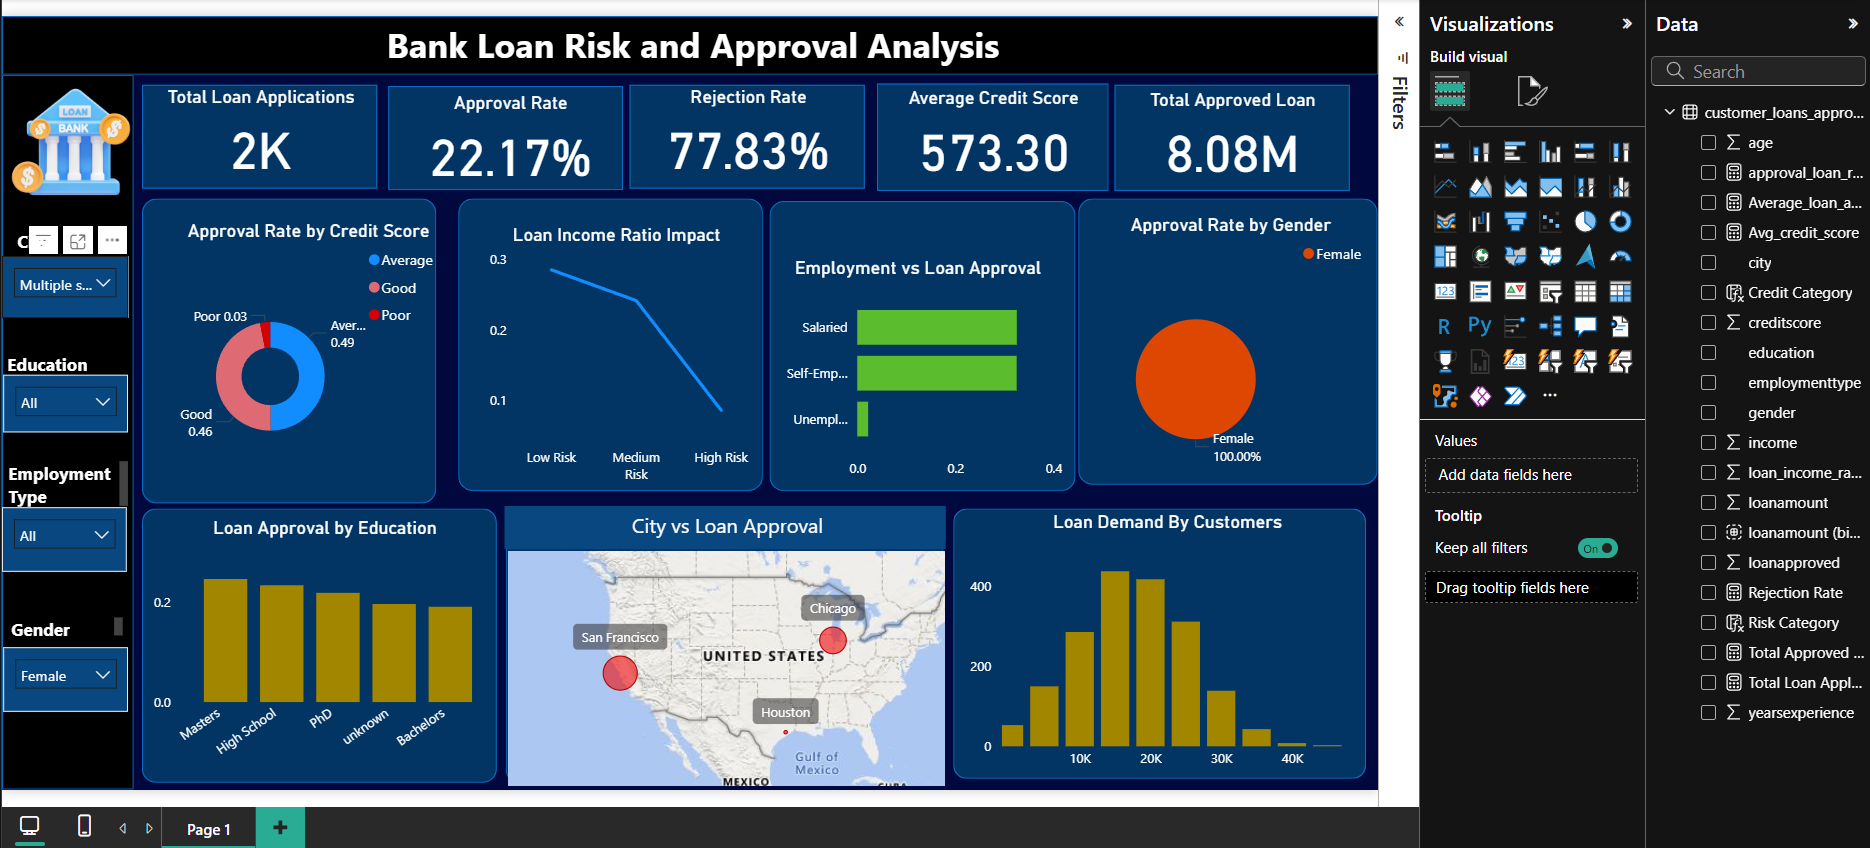

The dashboard page shown, as its layout file describes it:
{"tool":"powerbi","page":{"name":"Page 1","canvas":[1280,720],"ordinal":0},"visuals":[{"type":"shape","box":[0,55,122.5,665],"z":0},{"type":"shape","box":[714.3,171.8,284.7,269.9],"z":0,"group":"g14"},{"type":"group","id":"g1","title":"Group 3","box":[466.2,455,416,261.4],"z":0,"group":"g15"},{"type":"shape","box":[0,0,1280.2,54.7],"z":1000},{"type":"shape","box":[813.5,62.6,215.6,100],"z":1000,"group":"g4"},{"type":"shape","title":"Loan Approval Rate","box":[130.1,63.8,218.9,96.7],"z":1000,"group":"g5"},{"type":"shape","title":"Loan Approval Rate","box":[584.1,63.8,218.9,96.7],"z":1000,"group":"g6"},{"type":"shape","box":[1034.4,63.8,218.9,98.9],"z":1000,"group":"g7"},{"type":"shape","title":"Loan Approval Rate","box":[359.5,65,218.4,96.9],"z":1000,"group":"g8"},{"type":"textbox","box":[467.1,456.2,410,40],"z":1000,"group":"g15"},{"type":"card","title":"Total Loan Applications","fields":{"Values":["customer_loans_approval.Total Loan Applications"]},"box":[138.6,65.5,205.6,89.9],"z":1500,"group":"g5"},{"type":"card","title":"Rejection Rate","fields":{"Values":["customer_loans_approval.Rejection Rate"]},"box":[592.6,65.5,205.6,89.9],"z":1500,"group":"g6"},{"type":"card","title":"Average Credit Score","fields":{"Values":["customer_loans_approval.Avg_credit_score"]},"box":[819.2,65.7,205.7,92],"z":1500,"group":"g4"},{"type":"card","title":"Total Approved Loan","fields":{"Values":["customer_loans_approval.Total Approved Loan"]},"box":[1040.2,66.9,208.9,91],"z":1500,"group":"g7"},{"type":"card","title":"Approval Rate","fields":{"Values":["customer_loans_approval.approval_loan_rate"]},"box":[370.7,71.4,204.9,90.8],"z":1500,"group":"g8"},{"type":"group","id":"g2","title":"Group 1","box":[359.5,65,218.4,96.9],"z":2000},{"type":"textbox","box":[105.6,0,1174.4,54.4],"z":3000},{"type":"group","id":"g3","title":"Group 1","box":[1034.4,63.8,218.4,99.4],"z":4000},{"type":"group","id":"g4","title":"Group 2","box":[813.5,62.6,208.6,99.4],"z":4001,"group":"g9"},{"type":"group","id":"g5","title":"Group 2","box":[130.1,63.8,218.9,96.7],"z":4001,"group":"g10"},{"type":"group","id":"g6","title":"Group 2","box":[584.1,63.8,218.4,96.9],"z":4001,"group":"g17"},{"type":"group","id":"g7","title":"Group 2","box":[1034.4,63.8,218.4,99.4],"z":4001,"group":"g3"},{"type":"group","id":"g8","title":"Group 2","box":[359.5,65,218.4,97.2],"z":4001,"group":"g2"},{"type":"group","id":"g9","title":"Group 1","box":[813.5,62.6,208.6,99.4],"z":5000},{"type":"group","id":"g10","title":"Group 1","box":[130.1,63.8,218.4,96.9],"z":6000},{"type":"shape","box":[424.5,169.3,283.5,272.2],"z":6000,"group":"g11"},{"type":"shape","box":[1001.2,170,278.5,266.3],"z":6000,"group":"g16"},{"type":"shape","box":[130,169.4,273.8,283.8],"z":6500,"group":"g12"},{"type":"shape","box":[469,461.7,407.3,252.2],"z":6500,"group":"g1"},{"type":"group","id":"g11","title":"Group 3","box":[424.5,169.3,285.9,272.4],"z":7000},{"type":"shape","box":[130.1,457.7,330,255.2],"z":7000,"group":"g13"},{"type":"shape","box":[884.4,458.1,384.1,251.5],"z":7000,"group":"g18"},{"type":"pieChart","title":"Approval Rate by Gender","fields":{"Y":["Avg(customer_loans_approval.loanapproved)"],"Category":["customer_loans_approval.gender"]},"box":[1007,184.3,272.4,289.6],"z":7500,"group":"g16"},{"type":"donutChart","title":"Approval Rate by Credit Score","fields":{"Category":["customer_loans_approval.Credit Category"],"Y":["Avg(customer_loans_approval.loanapproved)"]},"box":[155,189.4,261.2,272.5],"z":7500,"group":"g12"},{"type":"lineChart","title":"Loan Income Ratio Impact","fields":{"Category":["customer_loans_approval.Risk Category"],"Y":["Avg(customer_loans_approval.loanapproved)"]},"box":[434.3,192.9,276.1,249.1],"z":7500,"group":"g11"},{"type":"map","title":"Loan Income Ratio Impact","fields":{"Category":["customer_loans_approval.city"],"Size":["Avg(customer_loans_approval.loanapproved)"]},"box":[466.2,455,416,261.4],"z":7500,"group":"g1"},{"type":"columnChart","title":"Loan Demand By Customers","fields":{"Category":["customer_loans_approval.loanamount (bins)"],"Y":["customer_loans_approval.Total Loan Applications"]},"box":[895.4,460.7,377.9,249.1],"z":7500,"group":"g18"},{"type":"columnChart","title":"Loan Approval by Education","fields":{"Category":["customer_loans_approval.education"],"Y":["customer_loans_approval.Average_loan_approved"]},"box":[136.3,465.6,328.8,244.1],"z":7500,"group":"g13"},{"type":"group","id":"g12","title":"Group 3","box":[0,169.4,416.2,292.5],"z":8000},{"type":"clusteredBarChart","title":"Employment vs Loan Approval","fields":{"Category":["customer_loans_approval.employmenttype"],"Y":["customer_loans_approval.Average_loan_approved"]},"box":[712.9,223.6,278.5,214.7],"z":8000,"group":"g14"},{"type":"group","id":"g13","title":"Group 3","box":[130.1,457.7,335,255.2],"z":9000},{"type":"group","id":"g14","title":"Group 4","box":[712.9,171.8,285.9,269.9],"z":10000},{"type":"group","id":"g15","title":"Group 5","box":[466.2,455,416,261.4],"z":11000},{"type":"group","id":"g16","title":"Group 3","box":[1001.2,170,278.5,303.8],"z":12000},{"type":"group","id":"g17","title":"Group 1","box":[584.1,63.8,218.4,96.9],"z":13000},{"type":"group","id":"g18","title":"Group 3","box":[884.4,458.1,389,251.7],"z":14000},{"type":"slicer","fields":{"Values":["customer_loans_approval.city"]},"box":[0,223.8,117.5,57.5],"z":15000},{"type":"slicer","fields":{"Values":["customer_loans_approval.education"]},"box":[1.2,333.8,116.2,53.8],"z":16000},{"type":"image","box":[0,28.8,130,183.8],"z":17000},{"type":"textbox","box":[0,308.1,112.9,51.5],"z":17003,"group":"g12"},{"type":"slicer","fields":{"Values":["customer_loans_approval.employmenttype"]},"box":[0,457.5,116.2,60],"z":18000},{"type":"textbox","box":[8.8,192.5,105,40],"z":19000},{"type":"textbox","box":[1.2,408.8,121.2,52.5],"z":20000},{"type":"slicer","fields":{"Values":["customer_loans_approval.gender"]},"box":[1.2,587.5,116.2,60],"z":21000},{"type":"textbox","box":[3.8,555,113.8,28.8],"z":22000}]}

Visuals, with their boxes on the page's 1280x720 design canvas (x1, y1, x2, y2). These are canvas units, not pixel positions in the 1870x848 screenshot, which may show the page scaled, cropped or inside an application window:
shape: box=[0, 55, 122, 720]
shape: box=[714, 172, 999, 442]
"Group 3" group: box=[466, 455, 882, 716]
shape: box=[0, 0, 1280, 55]
shape: box=[814, 63, 1029, 163]
"Loan Approval Rate" shape: box=[130, 64, 349, 160]
"Loan Approval Rate" shape: box=[584, 64, 803, 160]
shape: box=[1034, 64, 1253, 163]
"Loan Approval Rate" shape: box=[360, 65, 578, 162]
textbox: box=[467, 456, 877, 496]
"Total Loan Applications" card: box=[139, 66, 344, 155]
"Rejection Rate" card: box=[593, 66, 798, 155]
"Average Credit Score" card: box=[819, 66, 1025, 158]
"Total Approved Loan" card: box=[1040, 67, 1249, 158]
"Approval Rate" card: box=[371, 71, 576, 162]
"Group 1" group: box=[360, 65, 578, 162]
textbox: box=[106, 0, 1280, 54]
"Group 1" group: box=[1034, 64, 1253, 163]
"Group 2" group: box=[814, 63, 1022, 162]
"Group 2" group: box=[130, 64, 349, 160]
"Group 2" group: box=[584, 64, 802, 161]
"Group 2" group: box=[1034, 64, 1253, 163]
"Group 2" group: box=[360, 65, 578, 162]
"Group 1" group: box=[814, 63, 1022, 162]
"Group 1" group: box=[130, 64, 348, 161]
shape: box=[424, 169, 708, 442]
shape: box=[1001, 170, 1280, 436]
shape: box=[130, 169, 404, 453]
shape: box=[469, 462, 876, 714]
"Group 3" group: box=[424, 169, 710, 442]
shape: box=[130, 458, 460, 713]
shape: box=[884, 458, 1268, 710]
"Approval Rate by Gender" pieChart: box=[1007, 184, 1279, 474]
"Approval Rate by Credit Score" donutChart: box=[155, 189, 416, 462]
"Loan Income Ratio Impact" lineChart: box=[434, 193, 710, 442]
"Loan Income Ratio Impact" map: box=[466, 455, 882, 716]
"Loan Demand By Customers" columnChart: box=[895, 461, 1273, 710]
"Loan Approval by Education" columnChart: box=[136, 466, 465, 710]
"Group 3" group: box=[0, 169, 416, 462]
"Employment vs Loan Approval" clusteredBarChart: box=[713, 224, 991, 438]
"Group 3" group: box=[130, 458, 465, 713]
"Group 4" group: box=[713, 172, 999, 442]
"Group 5" group: box=[466, 455, 882, 716]
"Group 3" group: box=[1001, 170, 1280, 474]
"Group 1" group: box=[584, 64, 802, 161]
"Group 3" group: box=[884, 458, 1273, 710]
slicer - customer_loans_approval.city: box=[0, 224, 118, 281]
slicer - customer_loans_approval.education: box=[1, 334, 117, 388]
image: box=[0, 29, 130, 213]
textbox: box=[0, 308, 113, 360]
slicer - customer_loans_approval.employmenttype: box=[0, 458, 116, 518]
textbox: box=[9, 192, 114, 232]
textbox: box=[1, 409, 122, 461]
slicer - customer_loans_approval.gender: box=[1, 588, 117, 648]
textbox: box=[4, 555, 118, 584]
